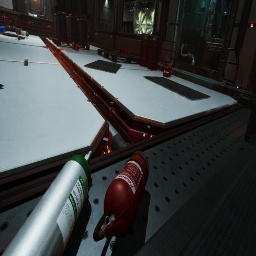0: (1, 151, 92, 256), (21, 30, 30, 36), (28, 13, 34, 16), (61, 42, 66, 44)
FireExtinguisher ]: (93, 151, 149, 242), (119, 48, 129, 54), (46, 18, 52, 20)
FirstAidBox ,: (163, 66, 172, 78), (72, 40, 79, 51), (46, 17, 48, 19)
NitrogenTank ,: (3, 25, 17, 32), (15, 28, 24, 34), (37, 14, 46, 19)
